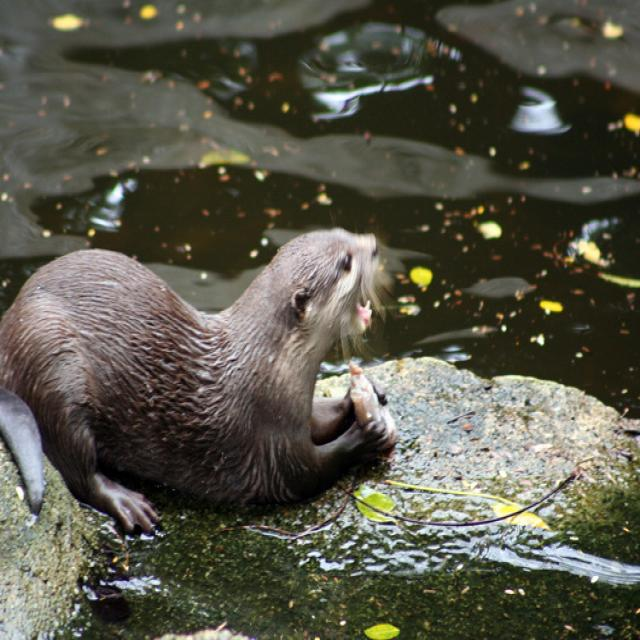otter: (1, 225, 395, 532)
